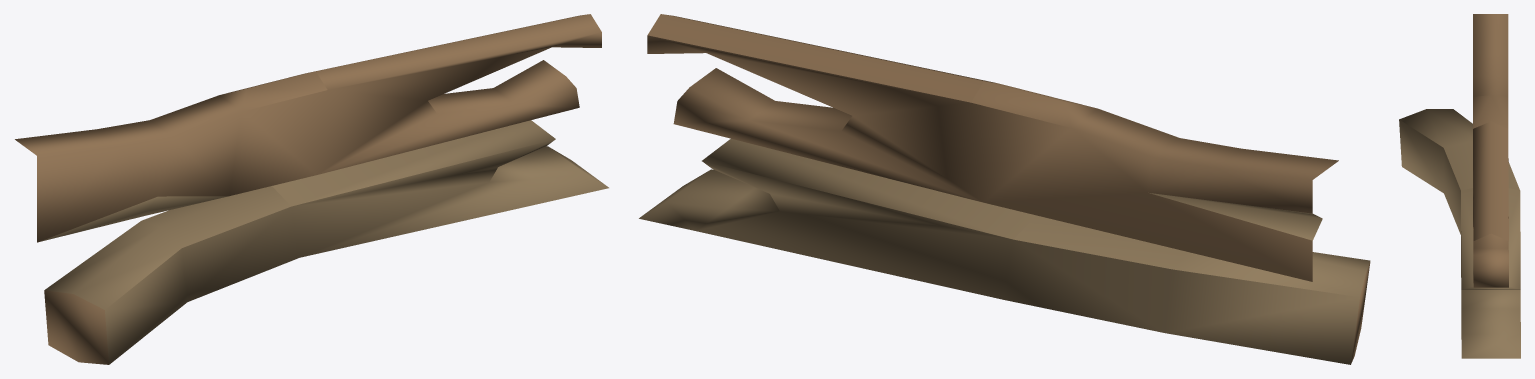
The model's file is rpgpp_av_wall_01_3x1_b.gltf.
3 views of the same model, side by side, from view 1: azimuth 30°, elevation 25°; view 2: azimuth 150°, elevation 25°; view 3: azimuth 270°, elevation 25° (orthographic). The views are drawn at different scales.
Visible parts, largest first — view 1: rpgpp_av_wall_01_3x1_b; view 2: rpgpp_av_wall_01_3x1_b; view 3: rpgpp_av_wall_01_3x1_b.
Boxes of the visible parts, x1,y1,x2,y2 form: rpgpp_av_wall_01_3x1_b: (15,14,608,364); rpgpp_av_wall_01_3x1_b: (639,14,1370,364); rpgpp_av_wall_01_3x1_b: (1399,14,1520,358).
Bounding box in the file's own units: 0.0303 × 0.00987 × 0.00716.
1 material, 1 textured.
